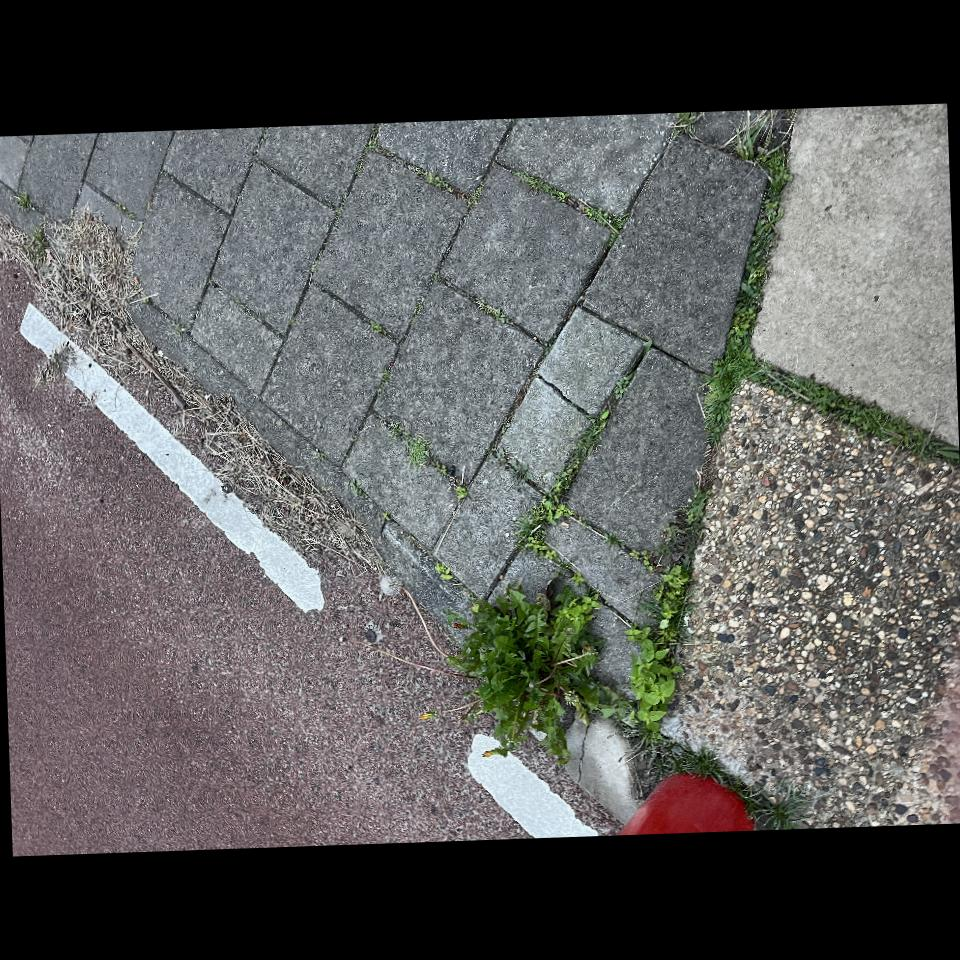weed: (277, 779, 696, 916), (212, 462, 411, 694), (403, 830, 700, 960), (280, 638, 501, 766), (14, 765, 104, 929), (286, 779, 357, 831)
